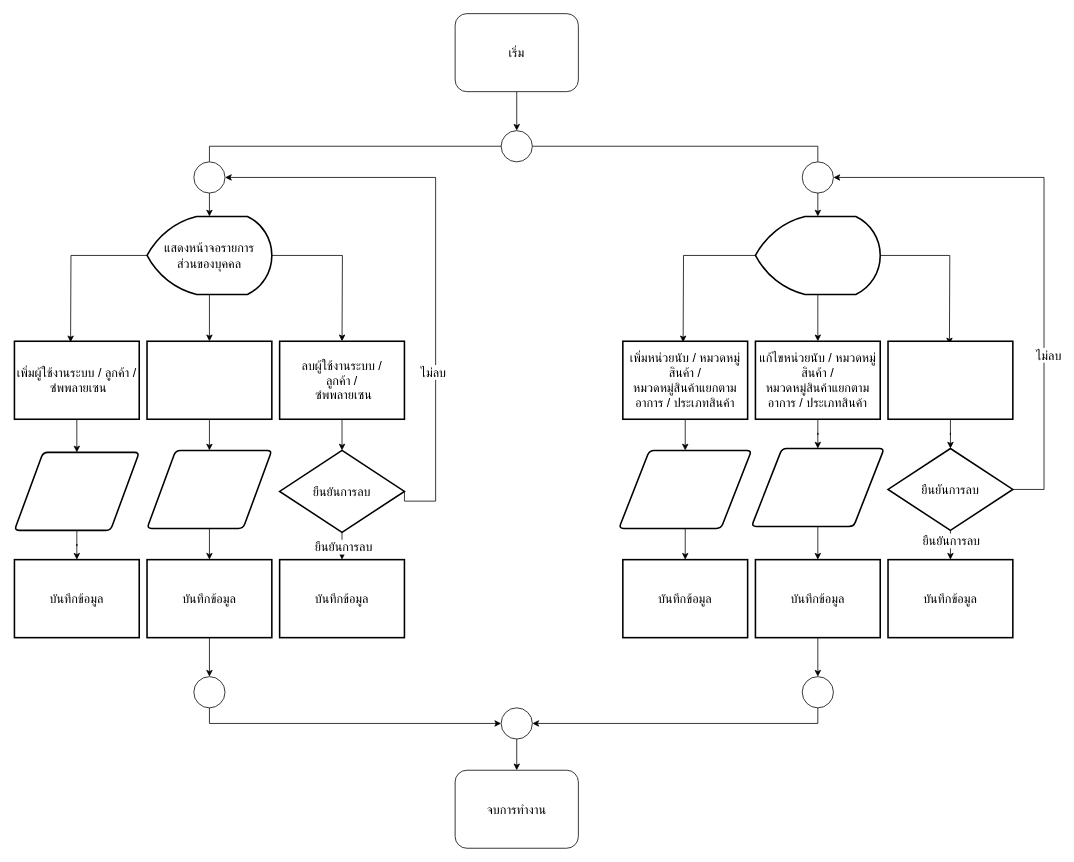
The diagram is 1074 pixels wide and 862 high, and some of its shapes have lost their labels. Each missing label, with the centre of its shape:
ป้อนข้อมูล ตามแบบฟอร์ม: point 685,489
ป้อนข้อมูล ผู้ใช้งานระบบ / ลูกค้า / ซัพพลายเซน: point 76,491
ลบหน่วยนับ / หมวดหมู่สินค้า / หมวดหมู่สินค้าแยกตามอาการ / ประเภทสินค้า: point 950,380
แก้ไขข้อมูล จากฟอร์ม: point 817,487
แก้ไขข้อมูล ผู้ใช้งานระบบ / ลูกค้า / ซัพพลายเซน: point 209,489
แก้ไขผู้ใช้งานระบบ / ลูกค้า / ซํพพลายเซน: point 209,380
แสดงหน้าจอรายการ ส่วนของสินค้า: point 817,255
